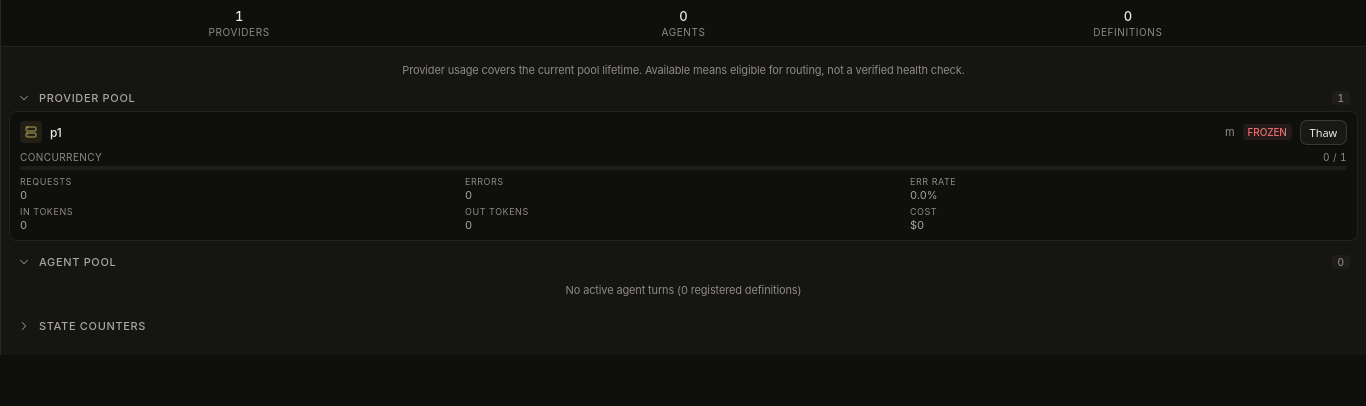
Test: shows the thaw health-check error inline
Click the button "Thaw": (1323, 132) [1300,120,1347,144]
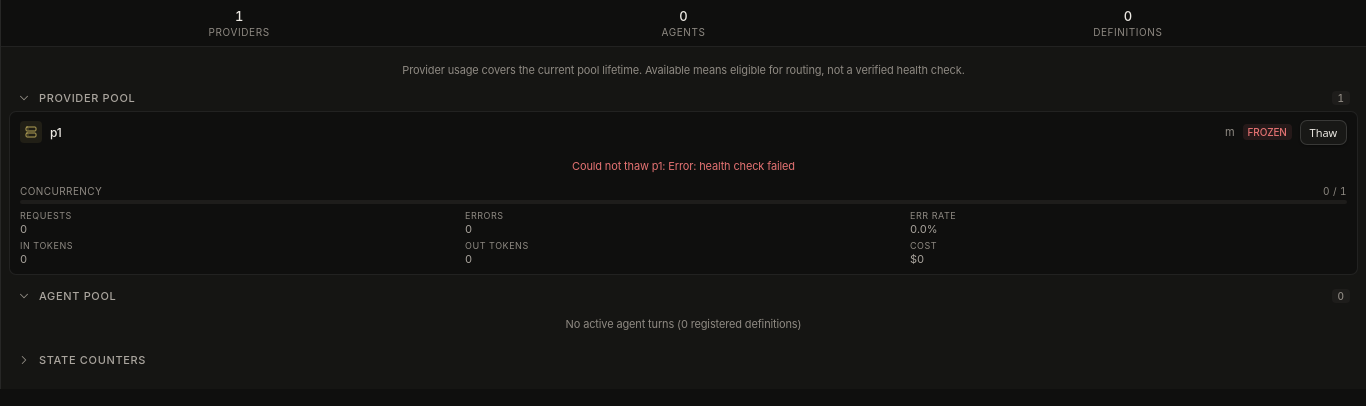
Check: the text "health check failed" is shown, box [572,158,795,172]
